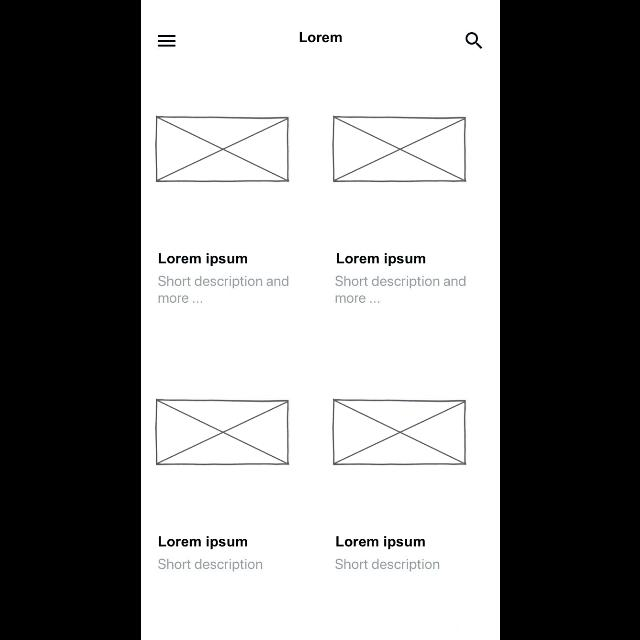icon: (466, 32, 482, 49), (157, 35, 175, 47)
image: (332, 115, 466, 183), (155, 398, 289, 466), (332, 398, 466, 466), (154, 116, 290, 182)
text: (334, 275, 466, 303), (158, 276, 288, 304), (334, 558, 440, 572), (158, 558, 262, 572), (158, 252, 248, 268), (336, 252, 426, 268), (158, 536, 248, 550), (335, 536, 425, 550), (300, 32, 342, 44)
